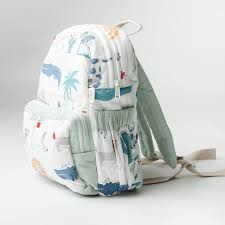bag: (21, 18, 165, 208)
